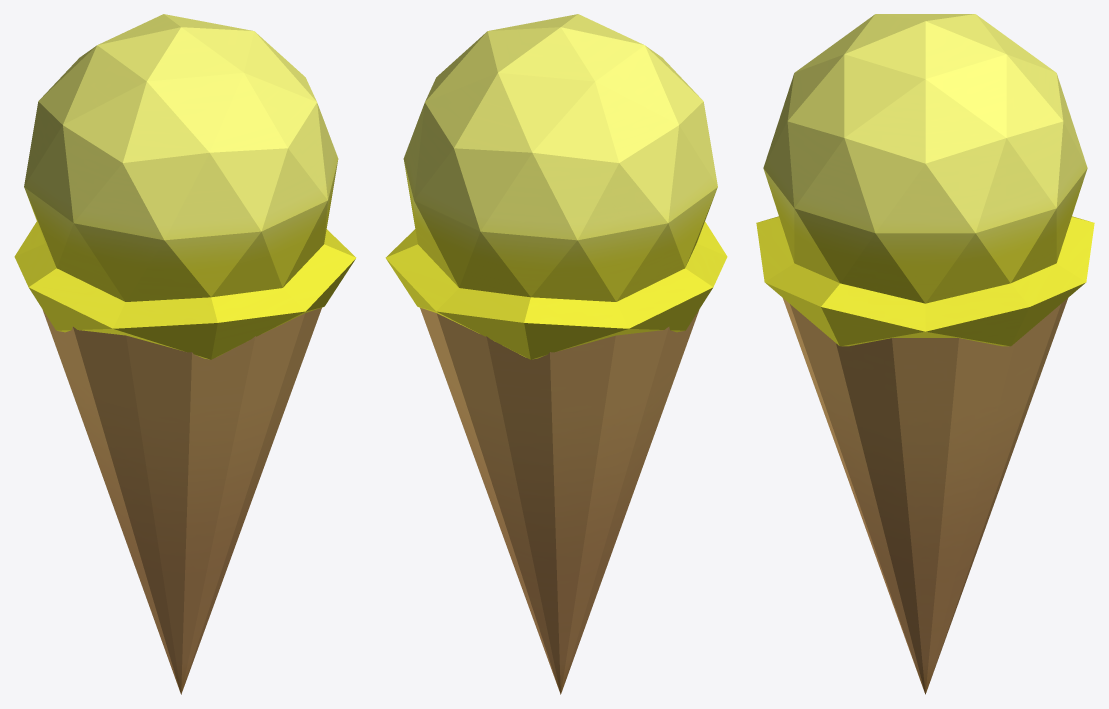
Rendered from Icecream2.glb.
3 renders of one model, left to right at view 1: azimuth 30°, elevation 25°; view 2: azimuth 150°, elevation 25°; view 3: azimuth 270°, elevation 25°, orthographic.
Visible parts, largest first — view 1: Icecream; view 2: Icecream; view 3: Icecream.
Part boxes in pixels (x1=…): Icecream: x1=14, y1=14, x2=356, y2=694; Icecream: x1=385, y1=14, x2=727, y2=694; Icecream: x1=756, y1=14, x2=1094, y2=694.
Size of the model in its own units: 0.8542 by 1.83 by 0.8327.
1 material, 1 textured.
